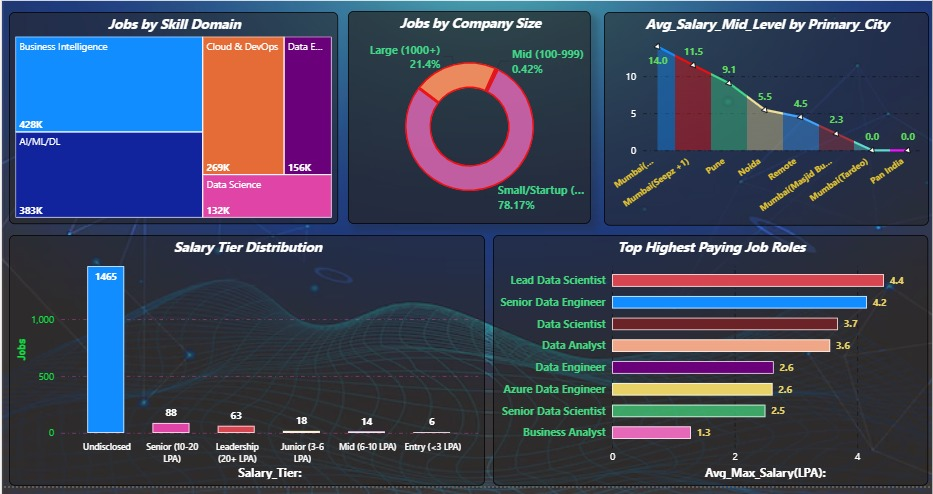

What the dashboard file says about the page in this screenshot:
{"tool":"powerbi","page":{"name":"Page 2","canvas":[1280,720],"ordinal":1},"visuals":[{"type":"textbox","box":[0,0,1280,52.3],"z":0},{"type":"clusteredColumnChart","title":"Salary Tier Distribution","fields":{"Category":["indian_tech_jobs_2026.salary_tier"],"Y":["CountNonNull(indian_tech_jobs_2026.job_id)"]},"box":[9.6,374.4,655.1,345.5],"z":1000},{"type":"clusteredBarChart","title":"Top Highest Paying Job Roles","fields":{"Category":["indian_tech_jobs_2026.job_title"],"Y":["Avg(indian_tech_jobs_2026.salary_max_lpa)"]},"box":[675.8,374.4,598.7,345.5],"z":2000},{"type":"donutChart","title":"Jobs by Company Size","fields":{"Category":["indian_tech_jobs_2026.company_size_bucket"],"Y":["CountNonNull(indian_tech_jobs_2026.job_id)"]},"box":[476.2,66.1,334.5,293.2],"z":3000},{"type":"lineChart","fields":{"Y":["Avg(indian_tech_jobs_2026.salary_midpoint_lpa)"],"Category":["indian_tech_jobs_2026.primary_city"]},"box":[828,67,447,294],"z":4000},{"type":"treemap","title":"Jobs by Skill Domain","fields":{"Group":["indian_tech_jobs_2026.skill_domain"],"Values":["Sum(indian_tech_jobs_2026.job_id)"]},"box":[9.6,67.4,452.8,291.8],"z":5000}]}

Visuals, with their boxes on the page's 1280x720 design canvas (x1, y1, x2, y2). These are canvas units, not pixel positions in the 933x494 screenshot, which may show the page scaled, cropped or inside an application window:
textbox: [0, 0, 1280, 52]
"Salary Tier Distribution" clusteredColumnChart: [10, 374, 665, 720]
"Top Highest Paying Job Roles" clusteredBarChart: [676, 374, 1274, 720]
"Jobs by Company Size" donutChart: [476, 66, 811, 359]
lineChart - Avg(indian_tech_jobs_2026.salary_midpoint_lpa) x indian_tech_jobs_2026.primary_city: [828, 67, 1275, 361]
"Jobs by Skill Domain" treemap: [10, 67, 462, 359]
